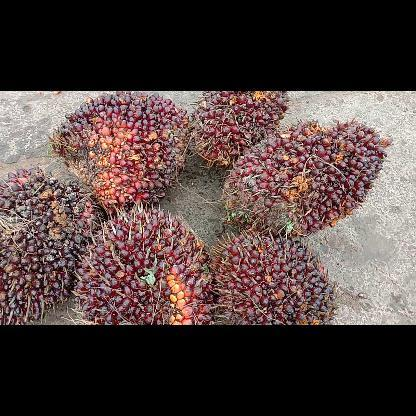Kurang masak: (220, 116, 394, 240), (49, 91, 191, 215), (72, 206, 218, 324), (0, 164, 106, 324), (211, 228, 341, 324), (187, 91, 291, 169)
